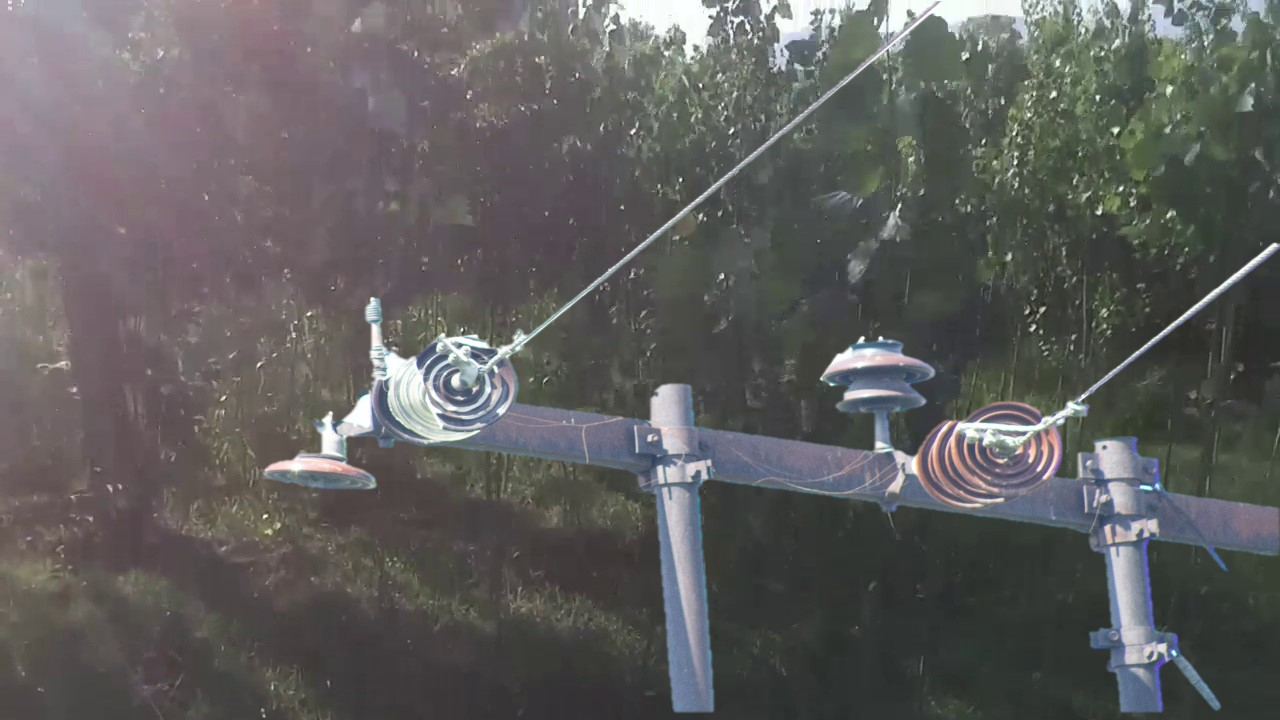defect_disc: (415, 329, 523, 432)
insulator_disc: (950, 395, 1065, 504), (260, 430, 378, 496)
